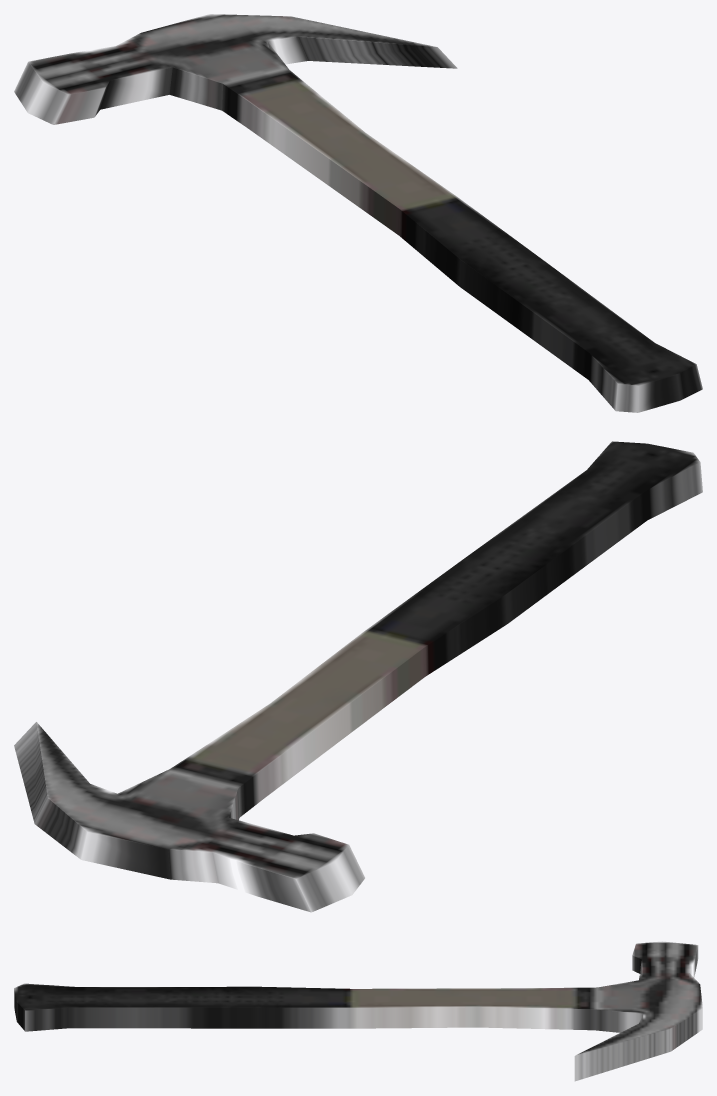
Rendered from hamer.glb.
3 views of the same model, one above another, from view 1: azimuth 30°, elevation 25°; view 2: azimuth 150°, elevation 25°; view 3: azimuth 270°, elevation 25° (orthographic). The views are drawn at different scales.
Parts seen in each view (by area): view 1: Plane; view 2: Plane; view 3: Plane.
Part boxes in pixels (x1=…): Plane: x1=14, y1=14, x2=702, y2=412; Plane: x1=14, y1=441, x2=702, y2=912; Plane: x1=14, y1=941, x2=702, y2=1081.
Size of the model in its own units: 0.7873 by 0.0543 by 1.81.
Materials: 1 (1 with a texture image).
